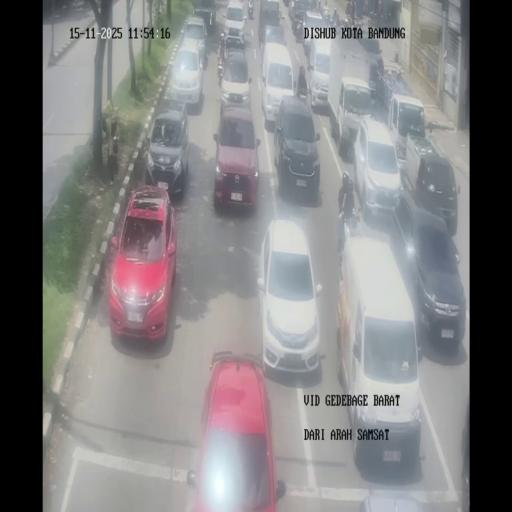3: (325, 30, 380, 148)
car: (186, 351, 283, 511), (344, 273, 421, 470), (108, 185, 177, 342), (394, 193, 465, 344), (257, 217, 321, 378), (212, 104, 261, 215), (273, 93, 321, 202), (145, 99, 190, 195), (261, 41, 294, 128), (388, 93, 426, 168), (178, 17, 207, 73), (309, 42, 332, 110), (302, 10, 326, 51), (261, 22, 284, 55), (223, 32, 246, 60), (288, 0, 296, 19)
truck: (216, 40, 225, 83), (293, 14, 304, 41), (297, 76, 308, 102), (341, 14, 354, 32), (332, 10, 341, 32), (321, 4, 330, 21), (248, 0, 254, 19)
